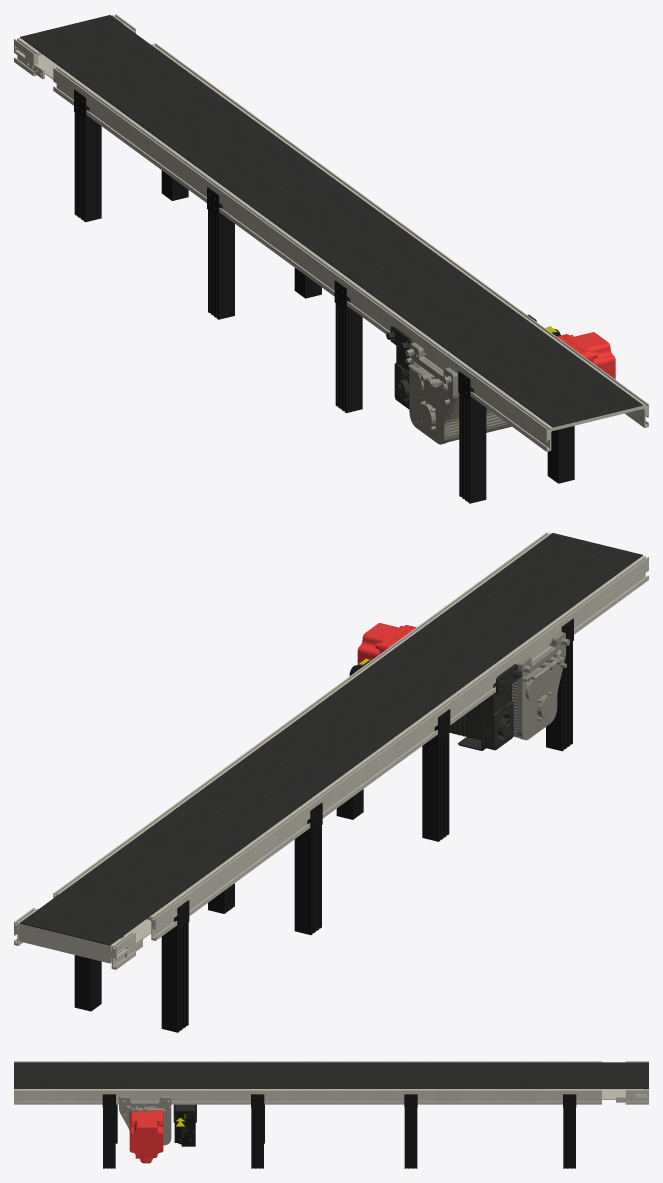
Rendered from ConveyorB2z.glb.
3 renders of one model, top to bottom at view 1: azimuth 30°, elevation 25°; view 2: azimuth 150°, elevation 25°; view 3: azimuth 270°, elevation 25°, orthographic. The views are drawn at different scales.
Visible parts, largest first — view 1: belt, Mesh_5, Mesh_5.001, Mesh_7, Mesh_6, Copy_of_Unnamed_Node_7.001, Copy_of_Unnamed_Node_7, Copy_of_Copy_of_Unnamed_Node_8, Mesh_9.001, Mesh_0, Mesh_12; view 2: belt, Mesh_5, Mesh_5.001, Mesh_7, Mesh_6, Copy_of_Unnamed_Node_7, Mesh_0, Mesh_12, Copy_of_Unnamed_Node_7.001, Mesh_9, Mesh_9.001, Mesh_11; view 3: belt, Mesh_5, Mesh_9.001, Mesh_8, Mesh_5.001, Mesh_9, Copy_of_Unnamed_Node_8, Copy_of_Copy_of_Unnamed_Node_8, Mesh_2.001, Mesh_0, Mesh_1.
Part boxes in pixels (left/top/right/bottom): belt: left=20, top=15, right=642, bottom=427; Mesh_5: left=53, top=43, right=648, bottom=451; Mesh_5.001: left=405, top=342, right=511, bottom=444; Mesh_7: left=334, top=280, right=362, bottom=412; Mesh_6: left=74, top=89, right=101, bottom=222; Copy_of_Unnamed_Node_7.001: left=458, top=371, right=486, bottom=503; Copy_of_Unnamed_Node_7: left=207, top=187, right=234, bottom=319; Copy_of_Copy_of_Unnamed_Node_8: left=547, top=426, right=574, bottom=483; Mesh_9.001: left=557, top=332, right=615, bottom=379; Mesh_0: left=14, top=14, right=135, bottom=79; Mesh_12: left=394, top=346, right=409, bottom=409; belt: left=20, top=533, right=642, bottom=945; Mesh_5: left=53, top=532, right=648, bottom=940; Mesh_5.001: left=512, top=631, right=569, bottom=740; Mesh_7: left=422, top=709, right=450, bottom=841; Mesh_6: left=161, top=900, right=189, bottom=1032; Copy_of_Unnamed_Node_7: left=294, top=802, right=322, bottom=934; Mesh_0: left=14, top=908, right=142, bottom=969; Mesh_12: left=449, top=684, right=513, bottom=750; Copy_of_Unnamed_Node_7.001: left=546, top=619, right=573, bottom=751; Mesh_9: left=74, top=955, right=101, bottom=1011; Mesh_9.001: left=357, top=623, right=416, bottom=665; Mesh_11: left=458, top=664, right=522, bottom=750; belt: left=14, top=1062, right=648, bottom=1088; Mesh_5: left=14, top=1061, right=601, bottom=1104; Mesh_9.001: left=129, top=1110, right=163, bottom=1163; Mesh_8: left=404, top=1094, right=417, bottom=1168; Mesh_5.001: left=119, top=1096, right=171, bottom=1145; Mesh_9: left=563, top=1094, right=576, bottom=1168; Copy_of_Unnamed_Node_8: left=251, top=1094, right=264, bottom=1168; Copy_of_Copy_of_Unnamed_Node_8: left=102, top=1094, right=115, bottom=1168; Mesh_2.001: left=174, top=1111, right=195, bottom=1146; Mesh_0: left=616, top=1061, right=648, bottom=1104; Mesh_1: left=602, top=1089, right=644, bottom=1099.
Bounding box in the file's own units: 0.333 × 0.23 × 1.69.
Materials: 11 (4 with a texture image).
